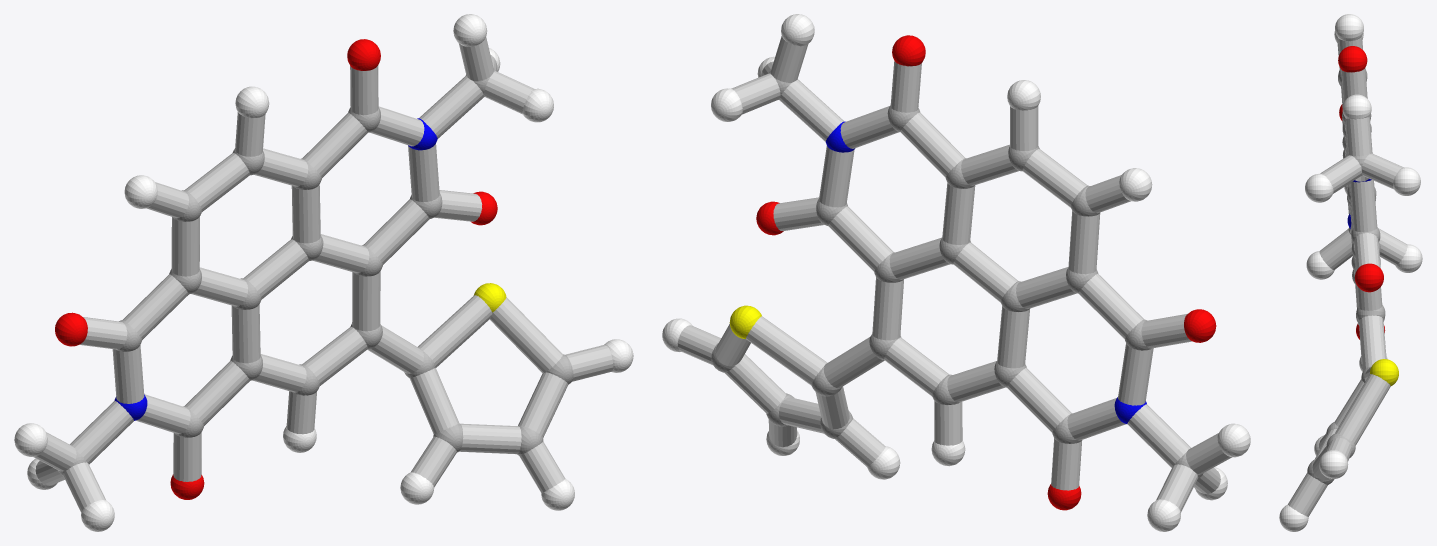
Rendered from color.glb.
The picture shows the model from 3 angles, left to right: view 1: azimuth 30°, elevation 25°; view 2: azimuth 150°, elevation 25°; view 3: azimuth 270°, elevation 25°; orthographic projection. The views are drawn at different scales.
Visible parts, largest first — view 1: grp14119, grp7241, grp1, grp12309, grp11585; view 2: grp14119, grp7241, grp1, grp12309, grp11585, grp13757; view 3: grp14119, grp7241, grp1, grp12309, grp13757.
Boxes of the visible parts, bbox=[...] form: grp14119: bbox=[33, 37, 613, 512]; grp7241: bbox=[14, 14, 633, 531]; grp1: bbox=[57, 68, 573, 475]; grp12309: bbox=[55, 39, 497, 499]; grp11585: bbox=[114, 118, 437, 420]; grp14119: bbox=[677, 36, 1232, 512]; grp7241: bbox=[662, 14, 1250, 531]; grp1: bbox=[711, 71, 1203, 479]; grp12309: bbox=[756, 35, 1216, 510]; grp11585: bbox=[825, 121, 1146, 423]; grp13757: bbox=[729, 305, 761, 338]; grp14119: bbox=[1288, 36, 1407, 516]; grp7241: bbox=[1279, 14, 1422, 531]; grp1: bbox=[1307, 69, 1385, 484]; grp12309: bbox=[1338, 46, 1385, 339]; grp13757: bbox=[1370, 359, 1398, 385].
Bounding box in the file's own units: 12.27 × 9.43 × 2.94.
